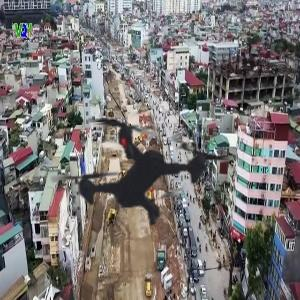drone: (16, 43, 269, 296)
